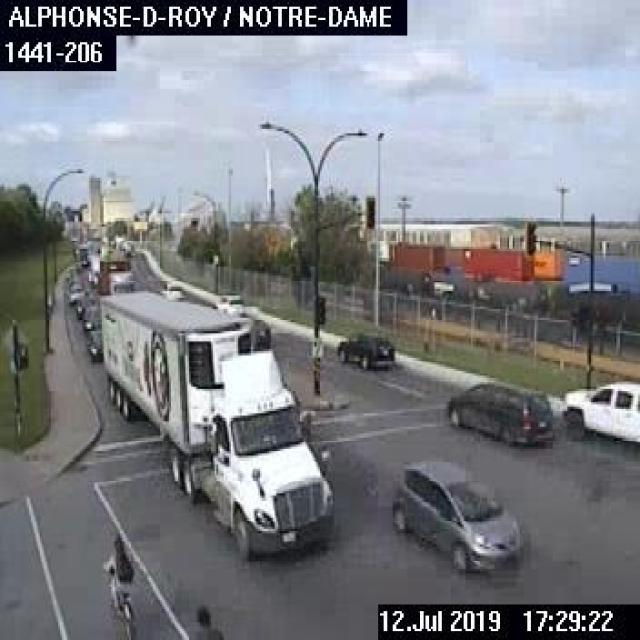cyclist: (98, 536, 131, 638)
pedestrian: (185, 602, 222, 638)
vehicle: (96, 286, 333, 560), (387, 454, 522, 576), (444, 378, 551, 444), (556, 378, 638, 444), (332, 331, 392, 367), (98, 256, 133, 292), (85, 328, 102, 363), (80, 303, 101, 331), (74, 295, 94, 318), (67, 282, 84, 304)
